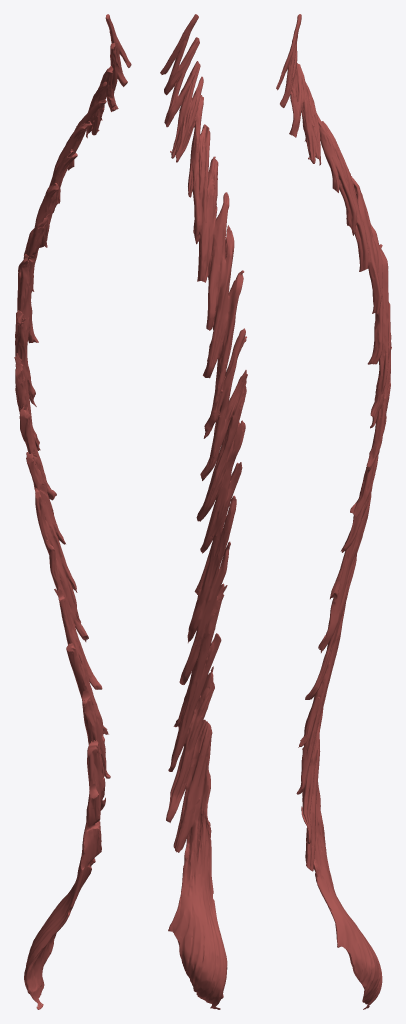
File: FMA22879.glb
The picture shows the model from 3 angles, left to right: view 1: azimuth 90°, elevation 25°; view 2: azimuth 210°, elevation 25°; view 3: azimuth 270°, elevation 25°; orthographic projection. The views are drawn at different scales.
Visible parts, largest first — view 1: FMA22879; view 2: FMA22879; view 3: FMA22879.
Boxes of the visible parts, x1,y1,x2,y2 form: FMA22879: [14, 14, 131, 1009]; FMA22879: [160, 14, 247, 1009]; FMA22879: [276, 14, 391, 1009].
Size of the model in its own units: 0.0373 by 0.611 by 0.0649.
